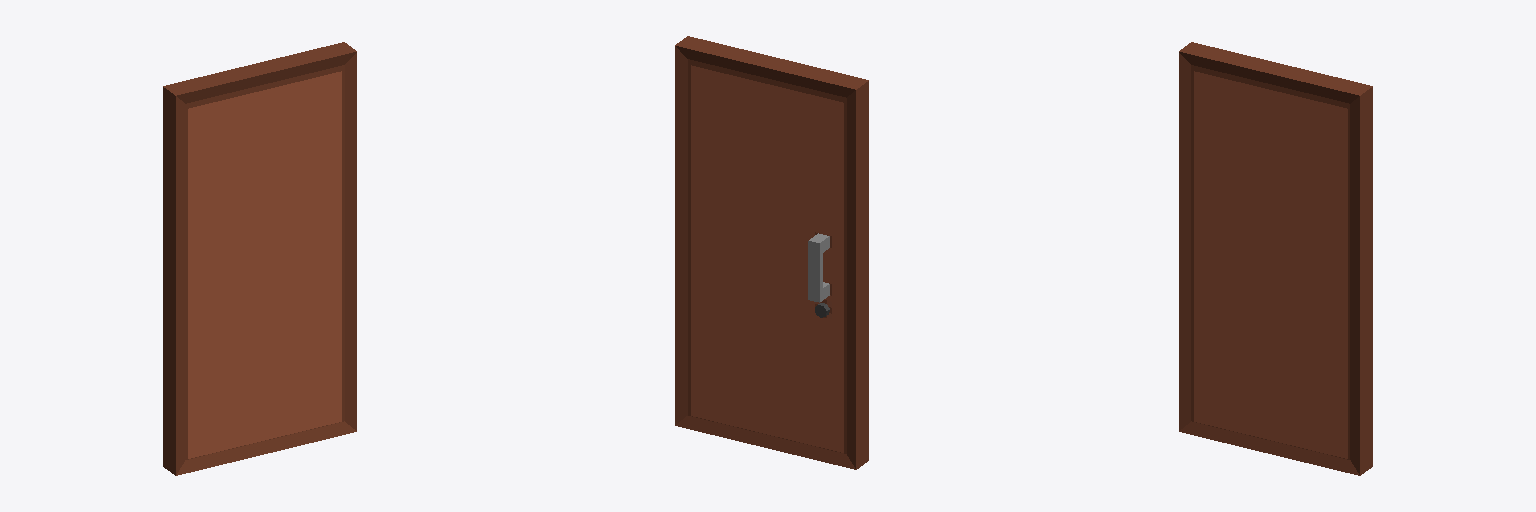
The picture shows the model from 3 angles: view 1: azimuth 30°, elevation 25°; view 2: azimuth 150°, elevation 25°; view 3: azimuth 330°, elevation 25°; orthographic projection.
Parts seen in each view (by area): view 1: cuboid; view 2: cuboid; view 3: cuboid.
Part boxes in pixels (left/top/right/bottom): cuboid: left=163, top=42, right=356, bottom=475; cuboid: left=675, top=36, right=868, bottom=469; cuboid: left=1179, top=42, right=1372, bottom=475.
Size of the model in its own units: 1 by 2 by 0.2031.
1 materials, 1 textured.